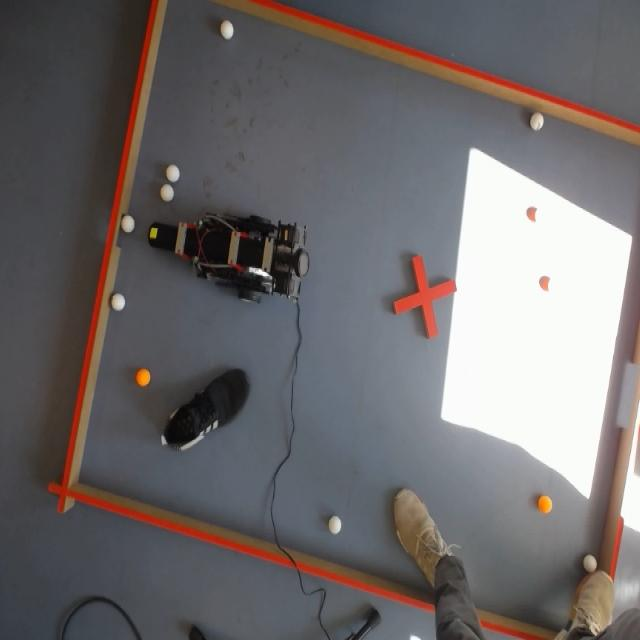orange: (136, 368, 151, 388), (538, 494, 552, 514)
robot: (148, 213, 310, 299)
robot-front: (148, 223, 172, 249)
white: (110, 292, 126, 312), (120, 214, 135, 234), (530, 112, 544, 132), (220, 20, 234, 40), (328, 515, 342, 534), (165, 165, 180, 182), (583, 554, 597, 572), (160, 184, 174, 201)
